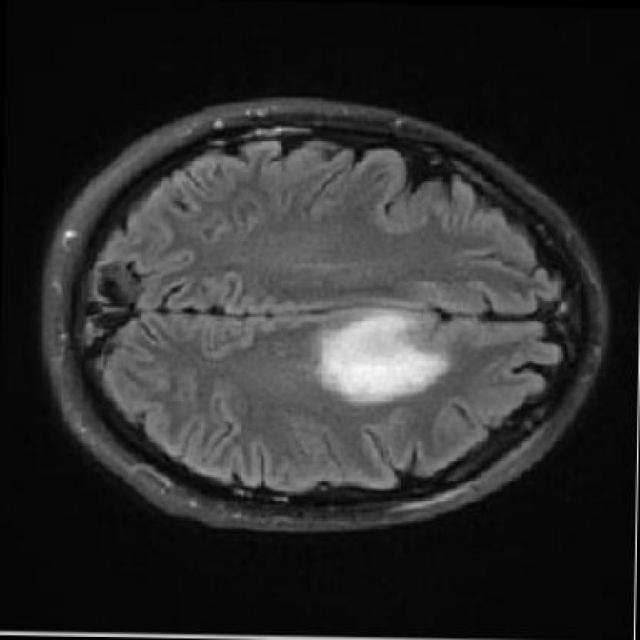Brain-Tumor: (311, 302, 462, 419)
